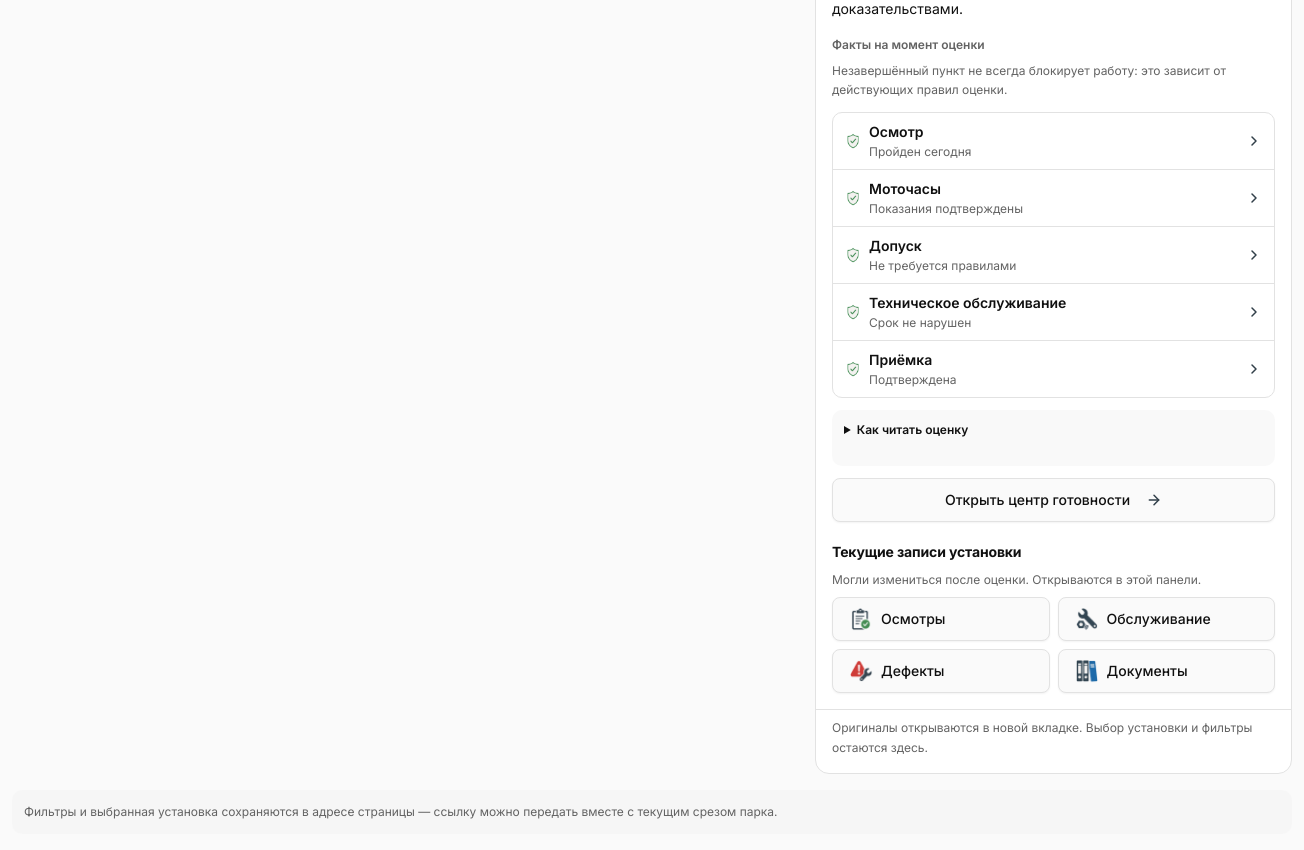
Fleet evidence interactions › distinguishes unavailable details from missing documents
This screenshot has width=1304, height=850.
(page scrolled)
Click the button "Документы": {"x": 1166, "y": 671} [1058,649,1275,693]
(page scrolled)
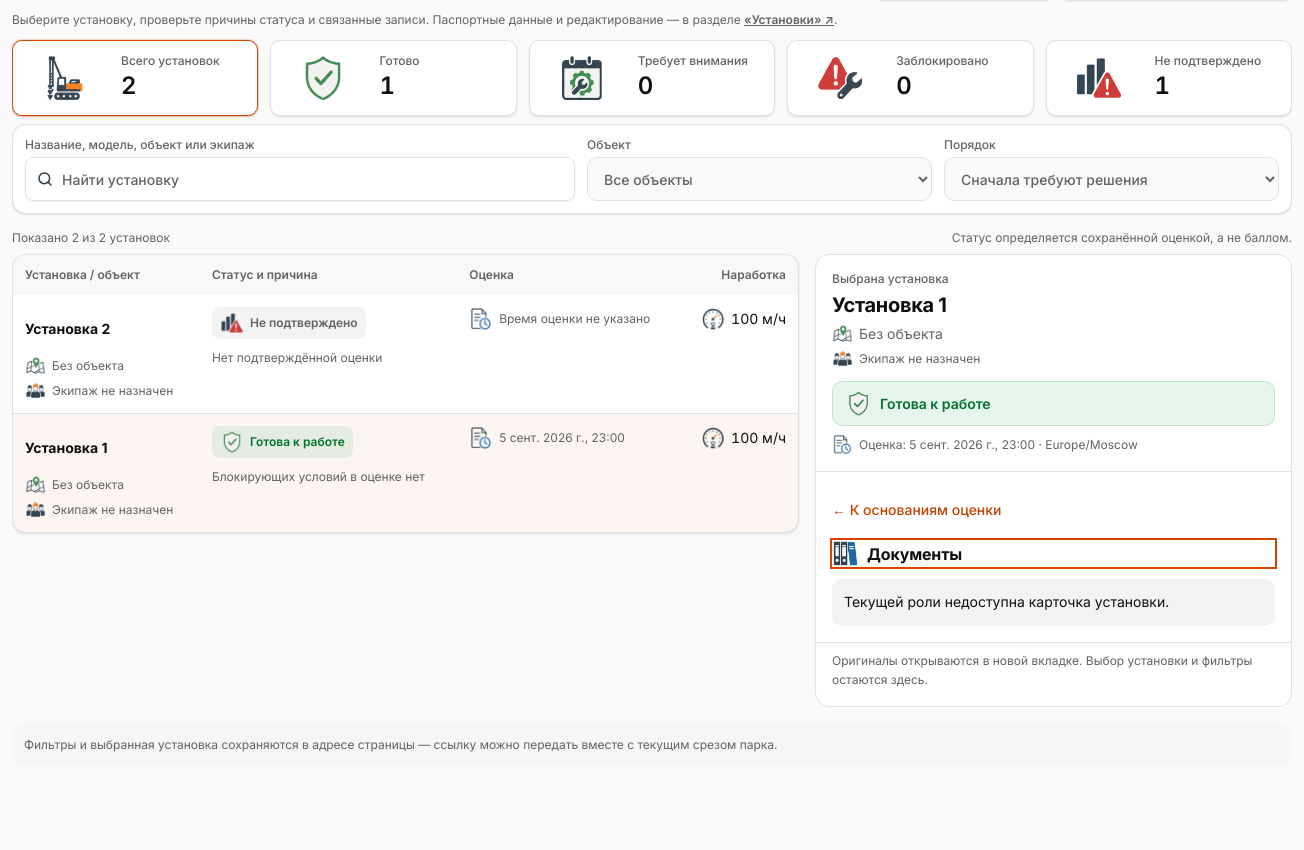
Expected: the text "Текущей роли недоступна карточка установки." is shown, [832,579,1275,626]
